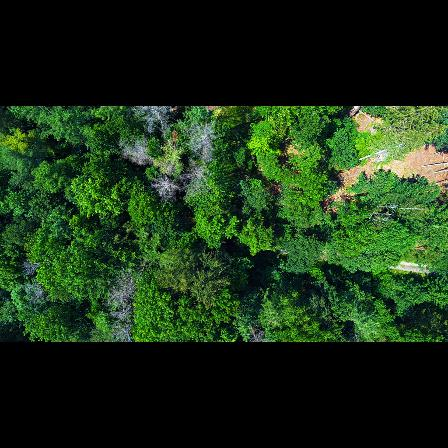Dead: (118, 136, 161, 168), (187, 119, 217, 160), (131, 106, 174, 132), (24, 262, 46, 306), (185, 159, 214, 192), (148, 173, 179, 202), (116, 270, 147, 299), (113, 318, 139, 342)
